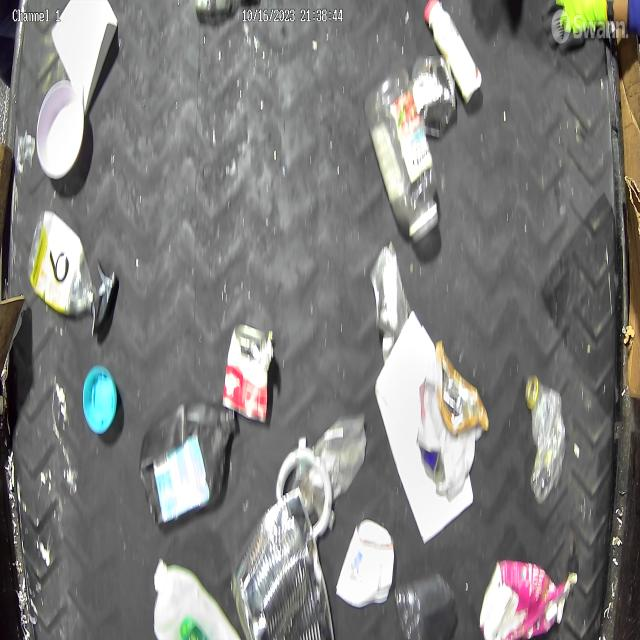can: (230, 485, 336, 640), (416, 336, 490, 499), (336, 516, 396, 608), (221, 320, 269, 425), (410, 52, 457, 140)
milk_jug: (152, 557, 241, 640)
non_white_jug: (139, 400, 238, 528)
plastic_bottle: (363, 67, 439, 245), (524, 374, 568, 506)
